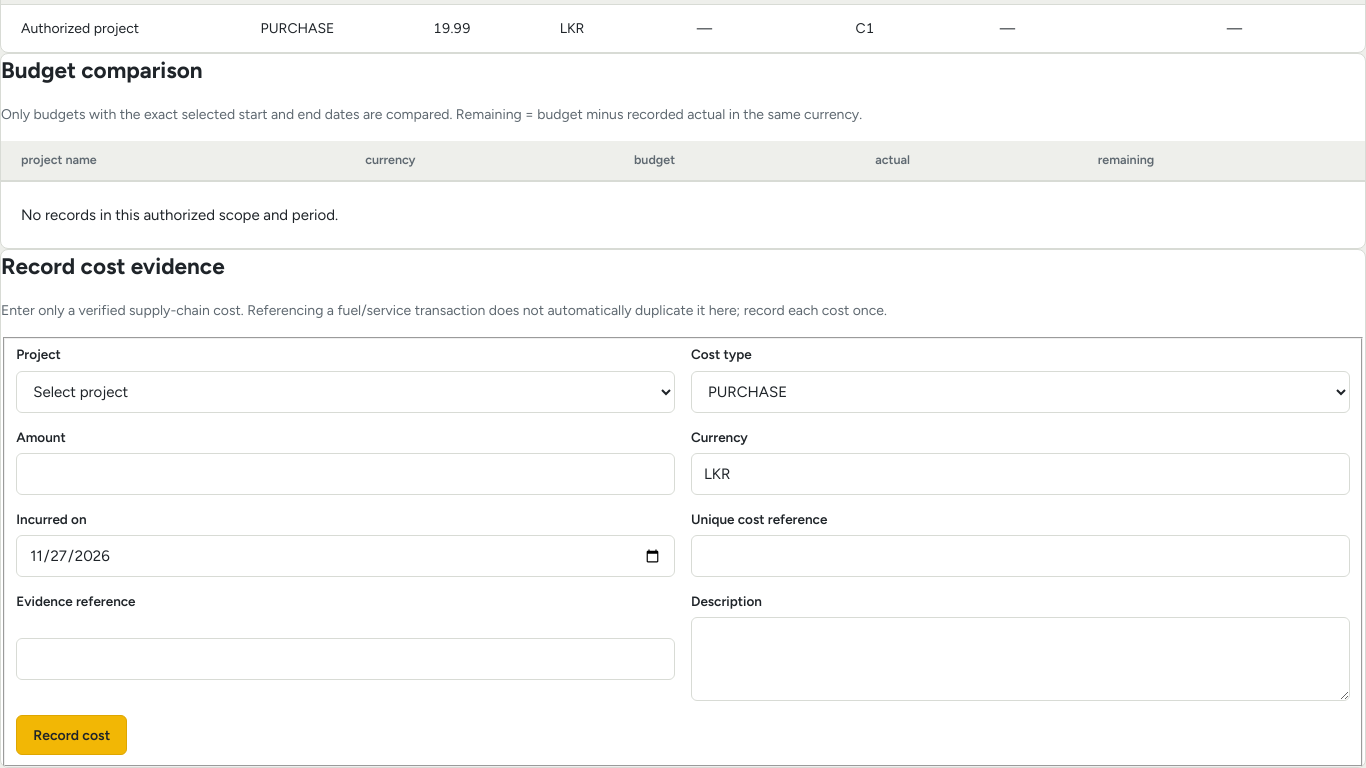
Test case: scoped role reporting workspace › submits explicit cost evidence through the real service contract only after validation
This screenshot has width=1366, height=768.
(page scrolled)
Select "Authorized project (P1)" in the dropdown labelled "Project": (346, 392) [16,371,675,413]
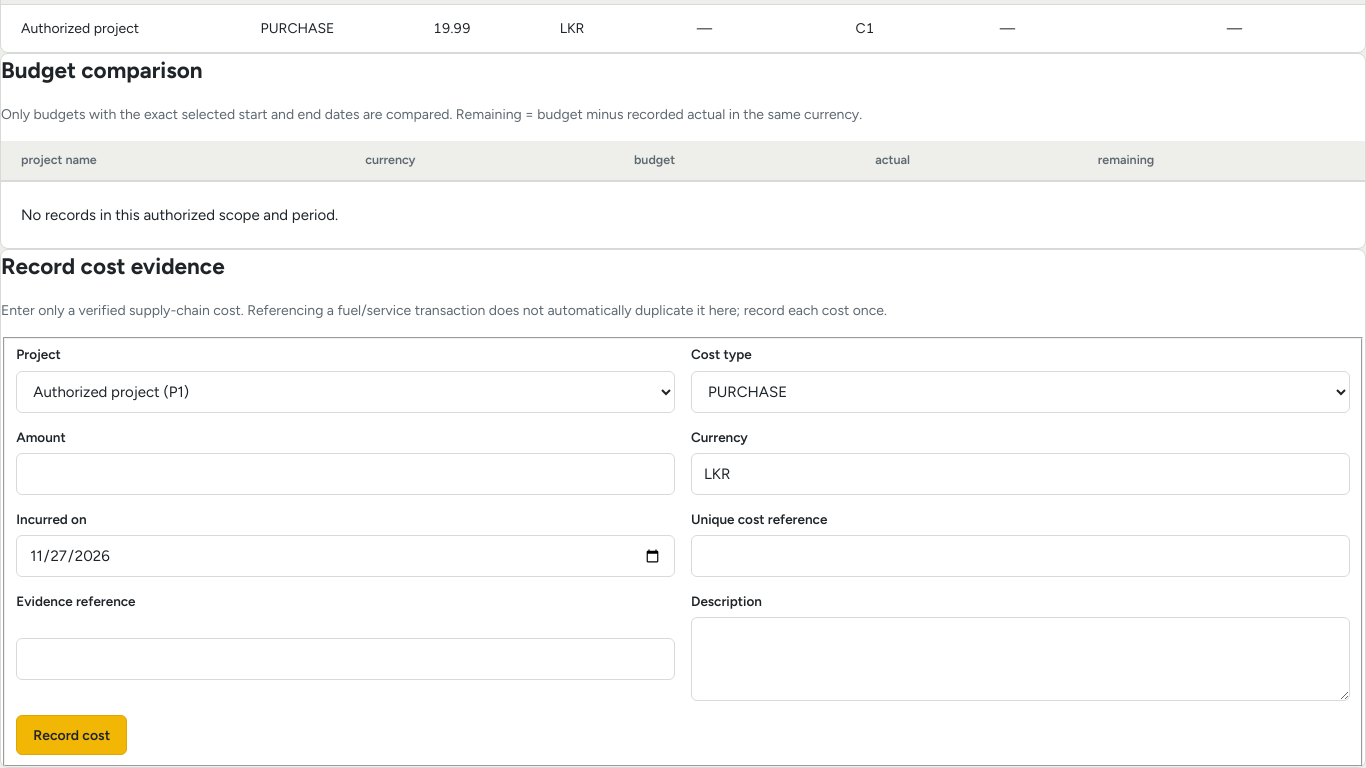
In the number field labelled "Amount": (346, 474) [16,453,675,495], type "25.50"
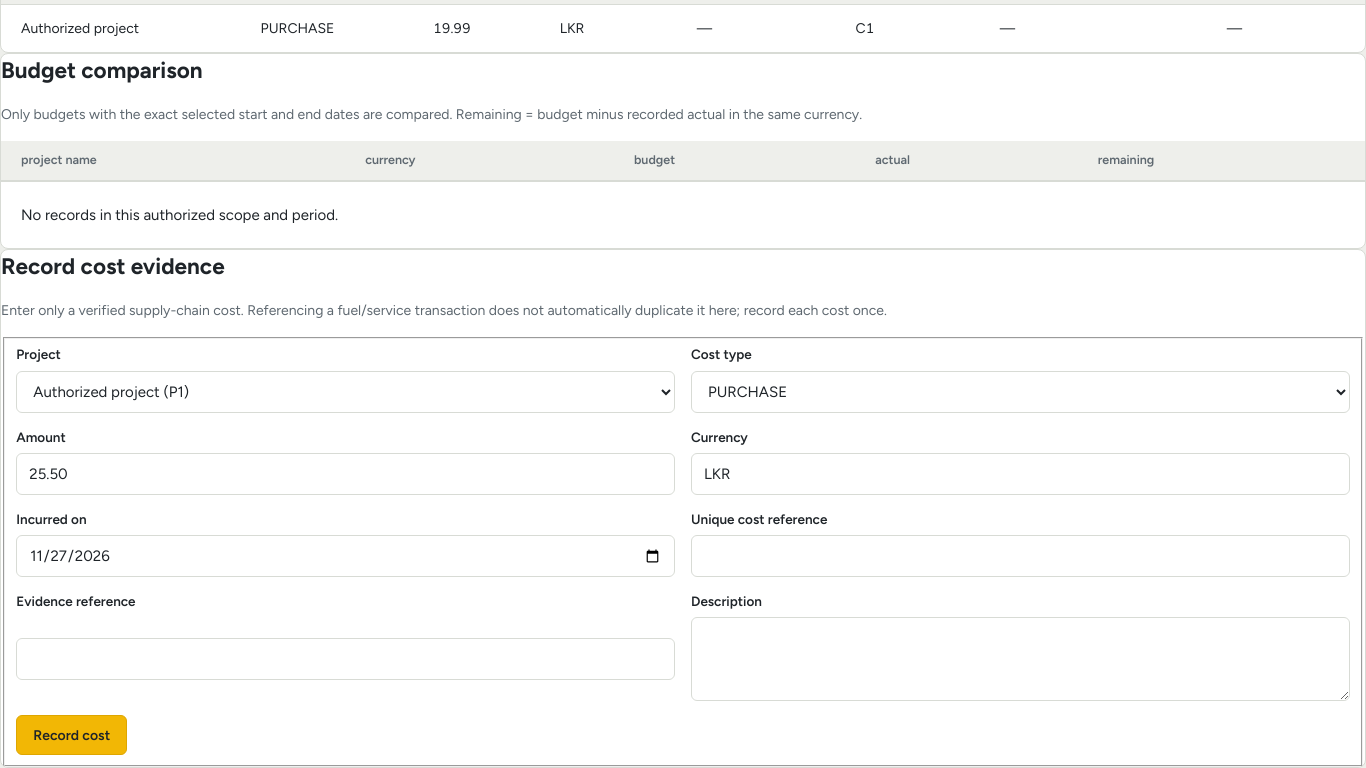
In the field labelled "Unique cost reference": (1020, 556) [691,535,1350,577], type "COST-NEW"
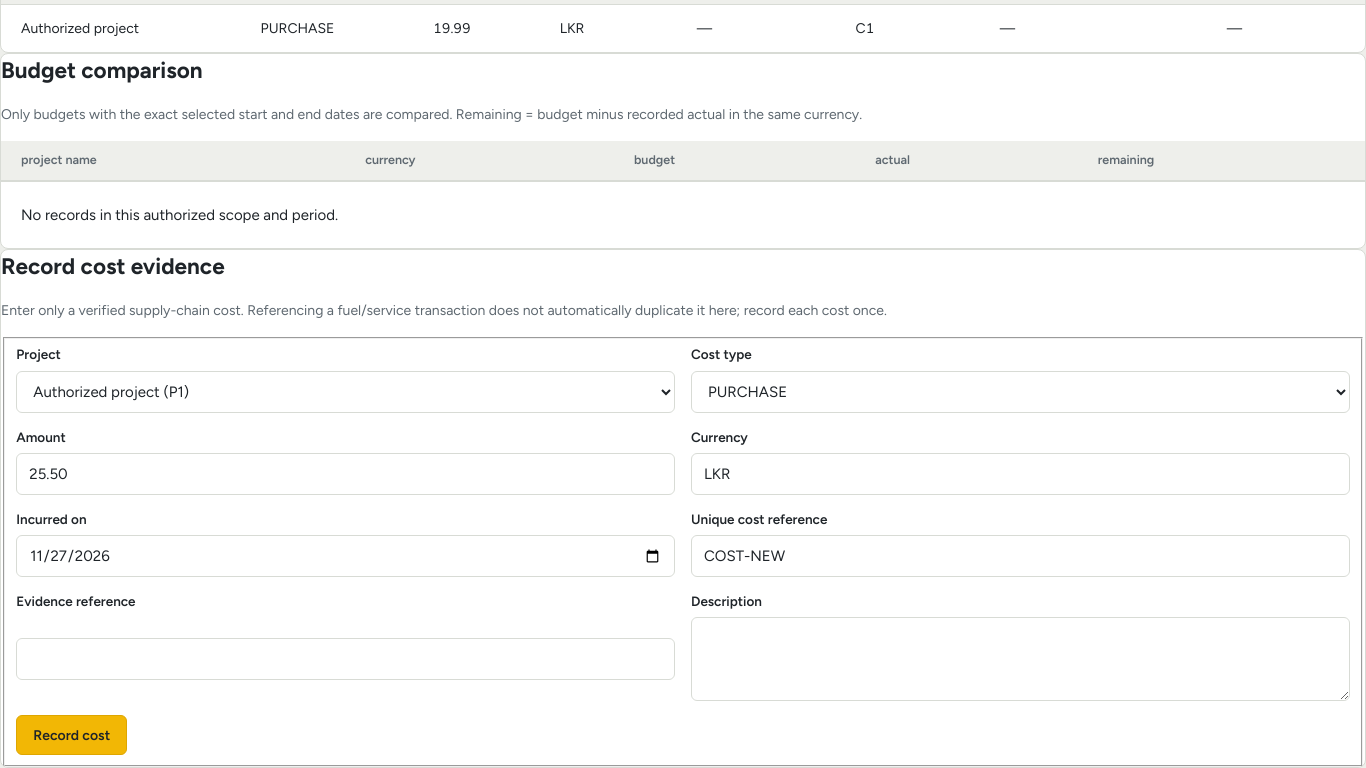
In the field labelled "Evidence reference": (346, 659) [16,638,675,680], type "evidence-NEW"
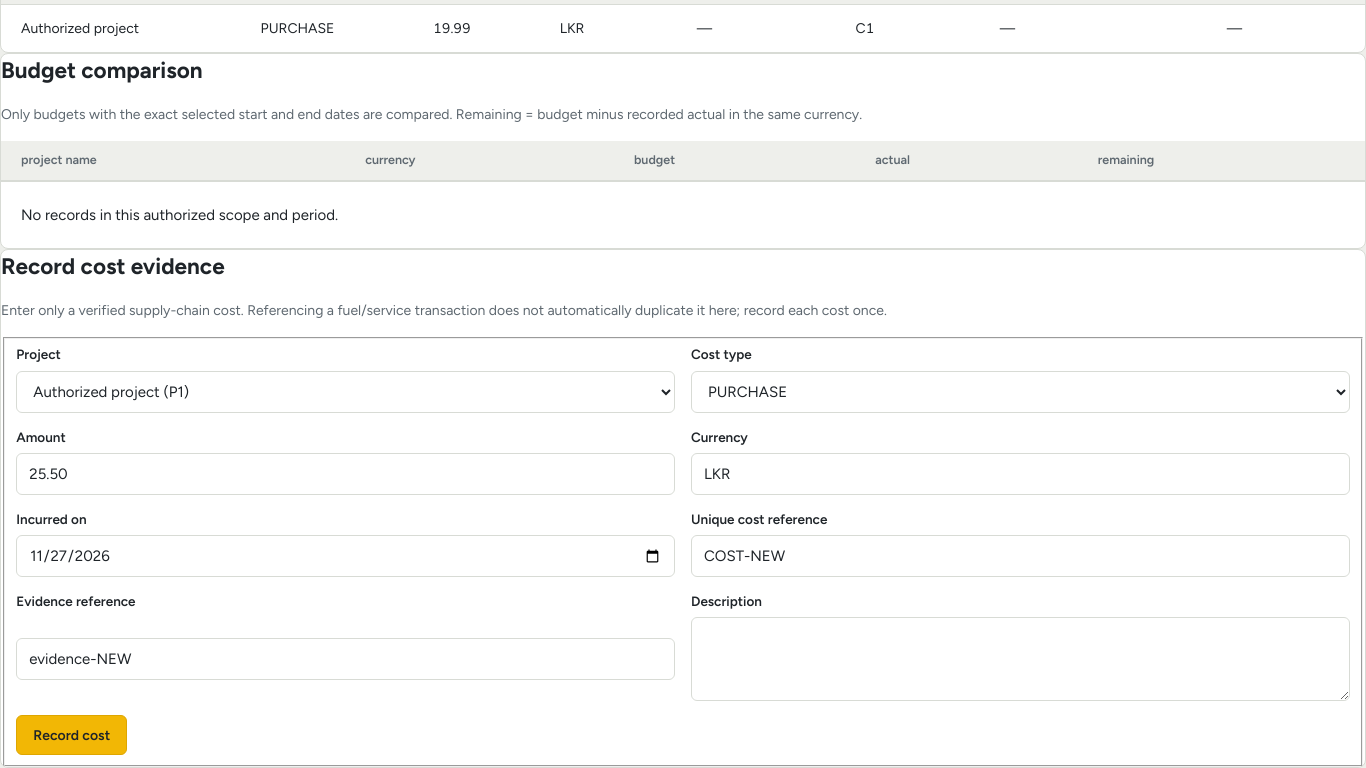
In the text box labelled "Description": (1020, 659) [691,617,1350,701], type "Verified fictional cost"
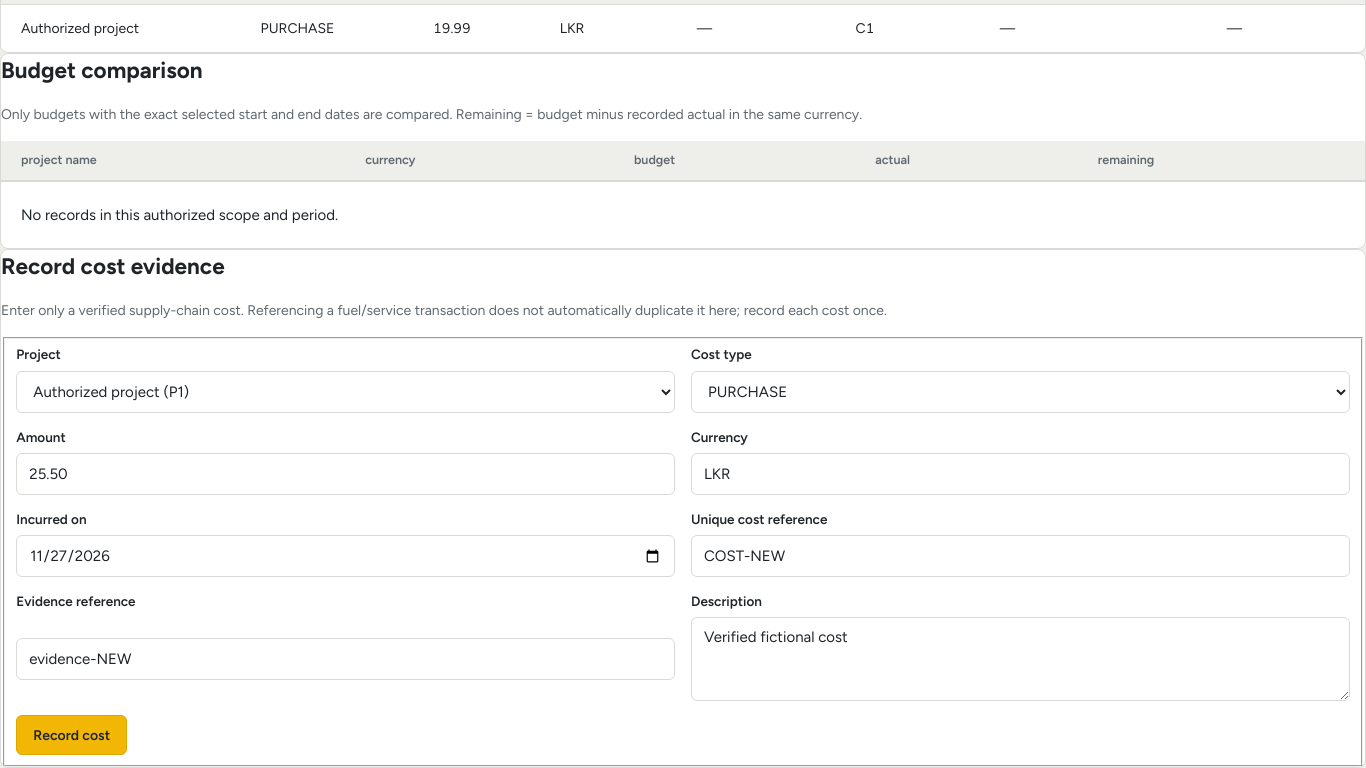
Submit the form named "Record cost", box [1,337,1365,767]
(page scrolled)
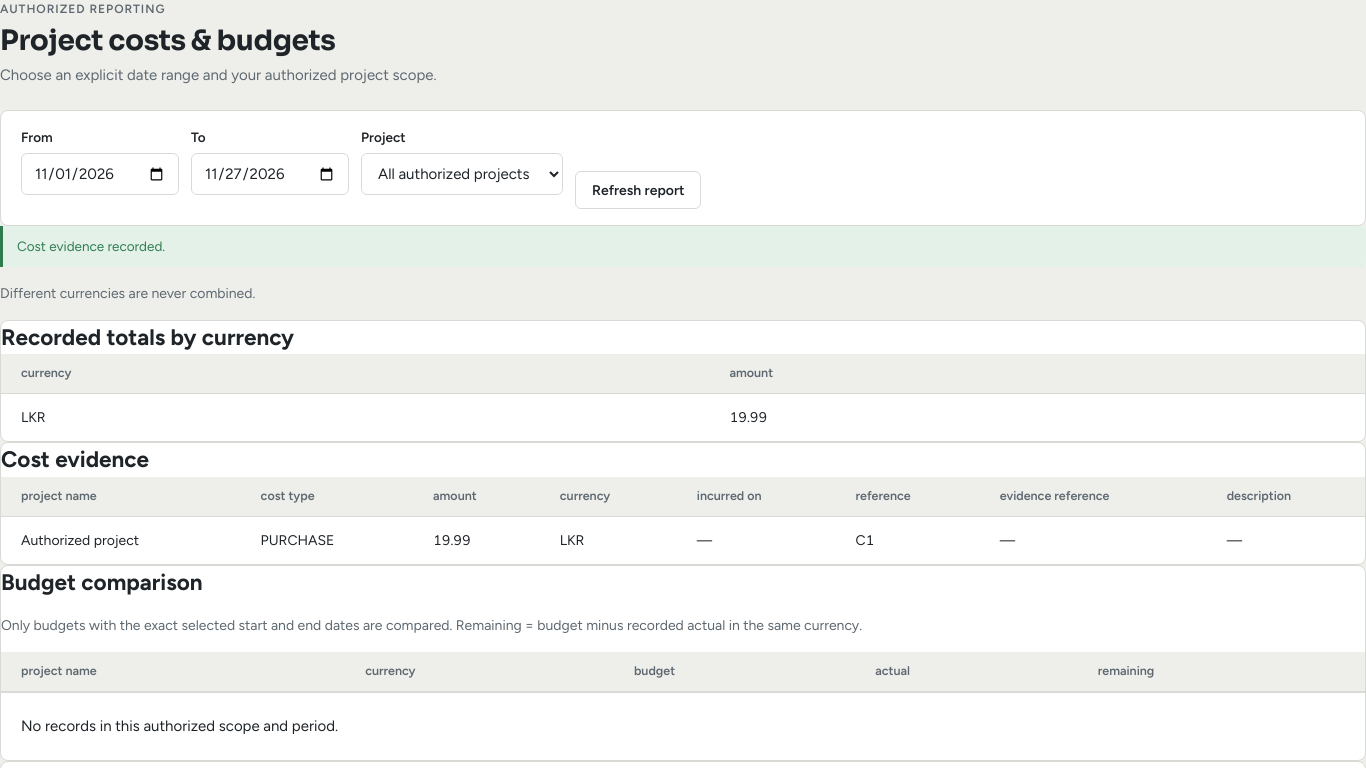
Result: the text "Cost evidence recorded." is shown at [0,226,1365,267]
